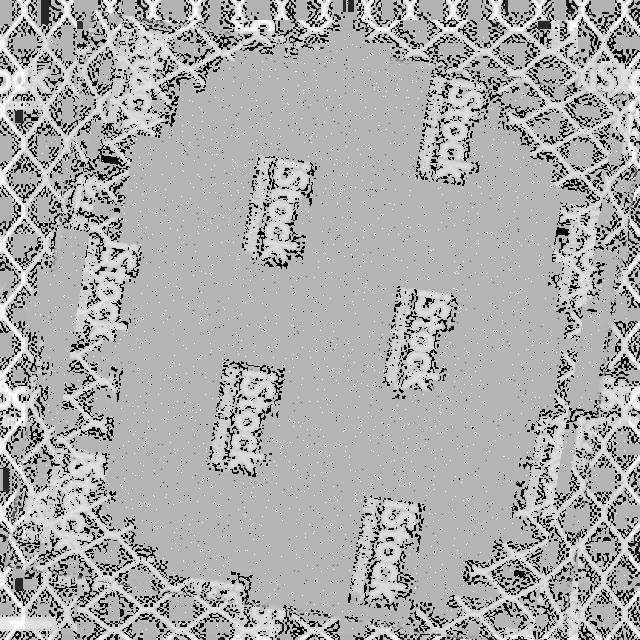anomaly-fence: (25, 31, 629, 635)
